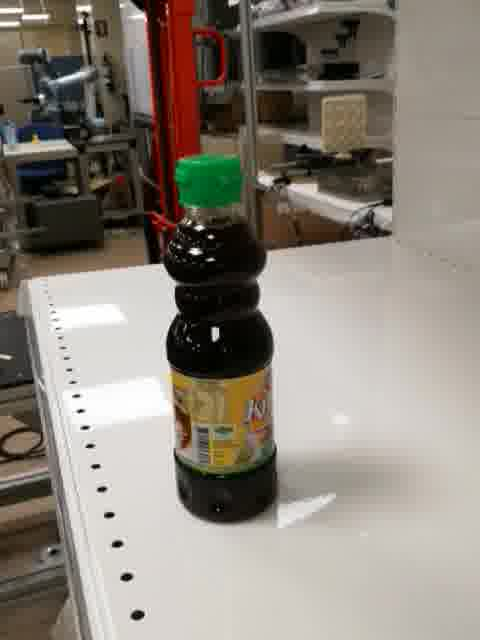cookingoil: (160, 148, 282, 526)
